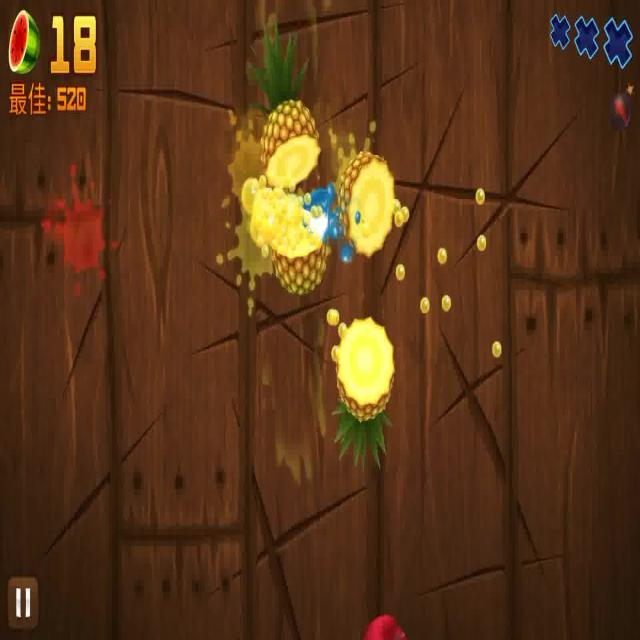fruit: (329, 308, 400, 464), (249, 28, 321, 180), (250, 195, 333, 282), (336, 137, 398, 251), (362, 612, 406, 640)
